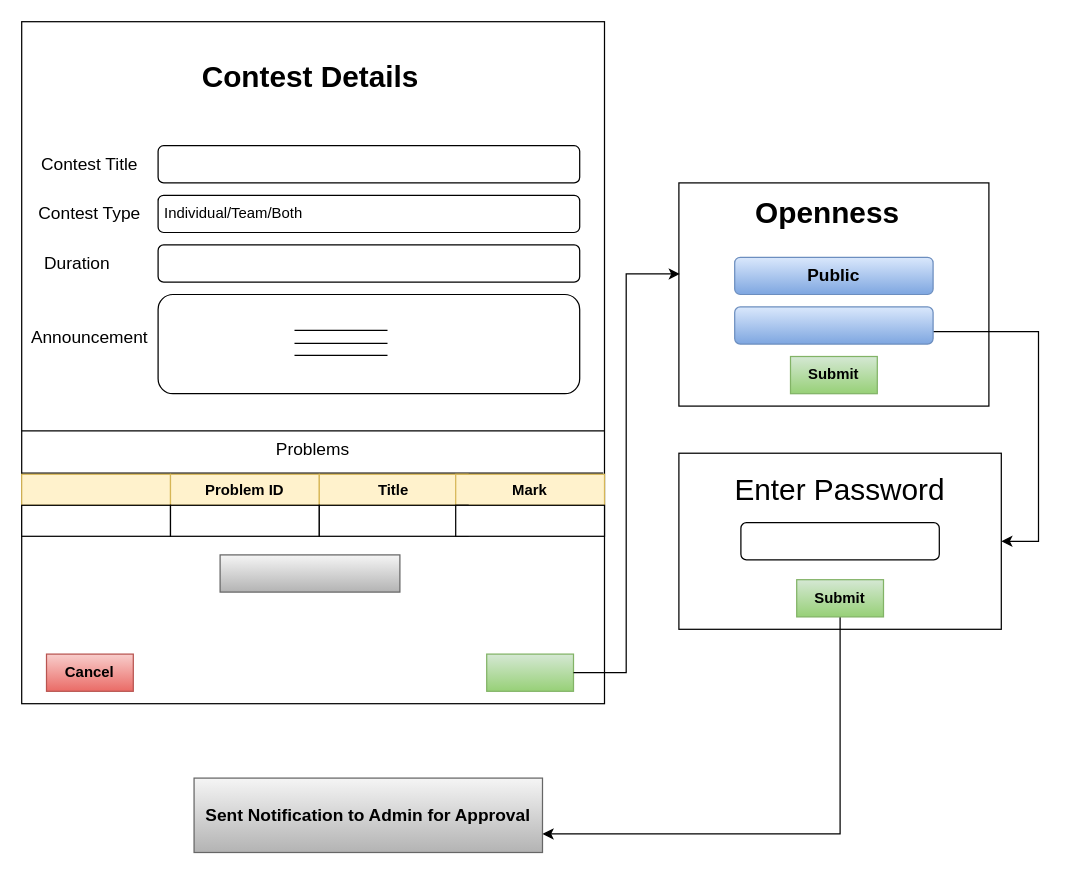
Some shapes in this 1070 by 874 pixel diagram are drawn without their labels. The centre of each missing label's shape, as x and y in pixels:
+ Add Problem: point 309,573
Confirm: point 529,672
Online Judge: point 95,489
Private: point 833,325
